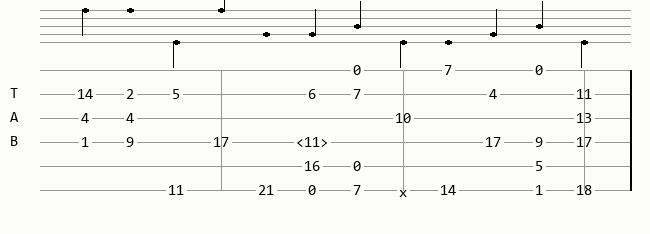0: (308, 183, 320, 197), (353, 63, 365, 77), (353, 159, 365, 173), (535, 63, 547, 77)
1: (81, 135, 93, 149), (535, 183, 547, 197)
10: (395, 111, 415, 125)
11: (168, 183, 188, 197), (576, 87, 596, 101)
13: (576, 111, 596, 125)
14: (77, 87, 97, 101), (440, 183, 460, 197)
16: (304, 159, 324, 173)
17: (213, 135, 233, 149), (485, 135, 505, 149), (576, 135, 596, 149)
18: (576, 183, 596, 197)
2: (126, 87, 138, 101)
21: (258, 183, 278, 197)
4: (81, 111, 93, 125), (126, 111, 138, 125), (489, 87, 501, 101)
5: (172, 87, 184, 101), (535, 159, 547, 173)
6: (308, 87, 320, 101)
7: (353, 87, 365, 101), (353, 183, 365, 197), (444, 63, 456, 77)
9: (126, 135, 138, 149), (535, 135, 547, 149)
harmonic: (296, 135, 332, 149)
x: (399, 185, 411, 196)
